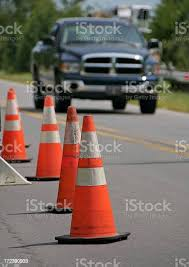car: (35, 18, 159, 112)
cone: (68, 115, 115, 241), (27, 94, 63, 181), (57, 108, 81, 213), (1, 84, 31, 162)
